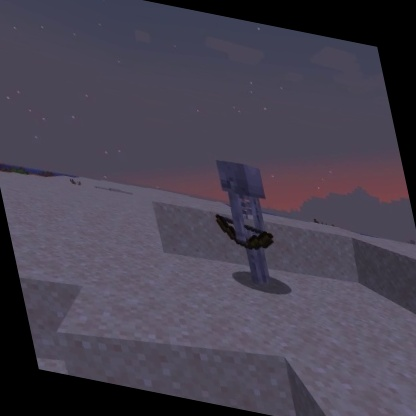skeleton: (199, 153, 290, 295)
